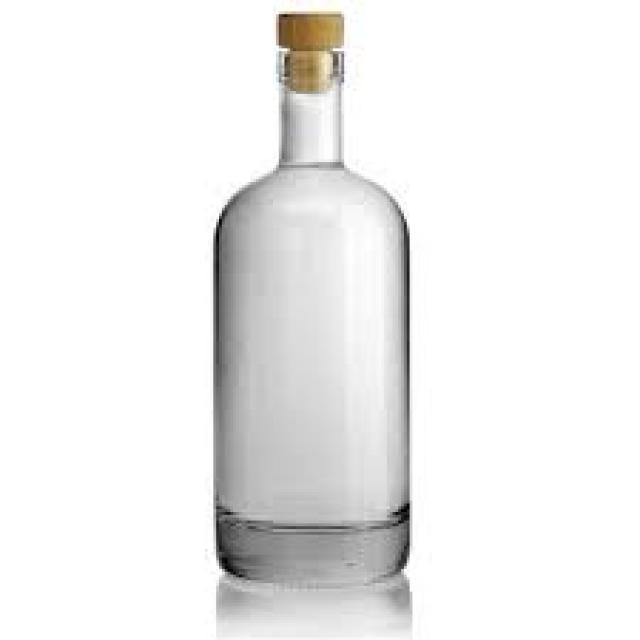glass: (210, 48, 407, 583)
